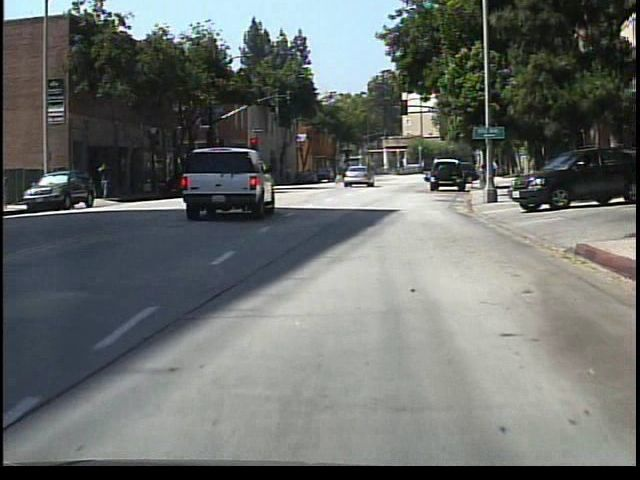person: (96, 160, 116, 201), (486, 154, 500, 180), (334, 164, 346, 187)
